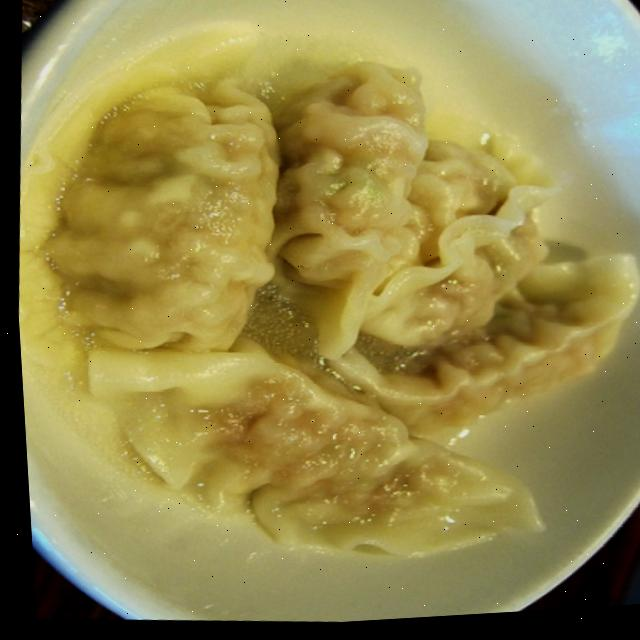带馅早点: (5, 0, 640, 636)
